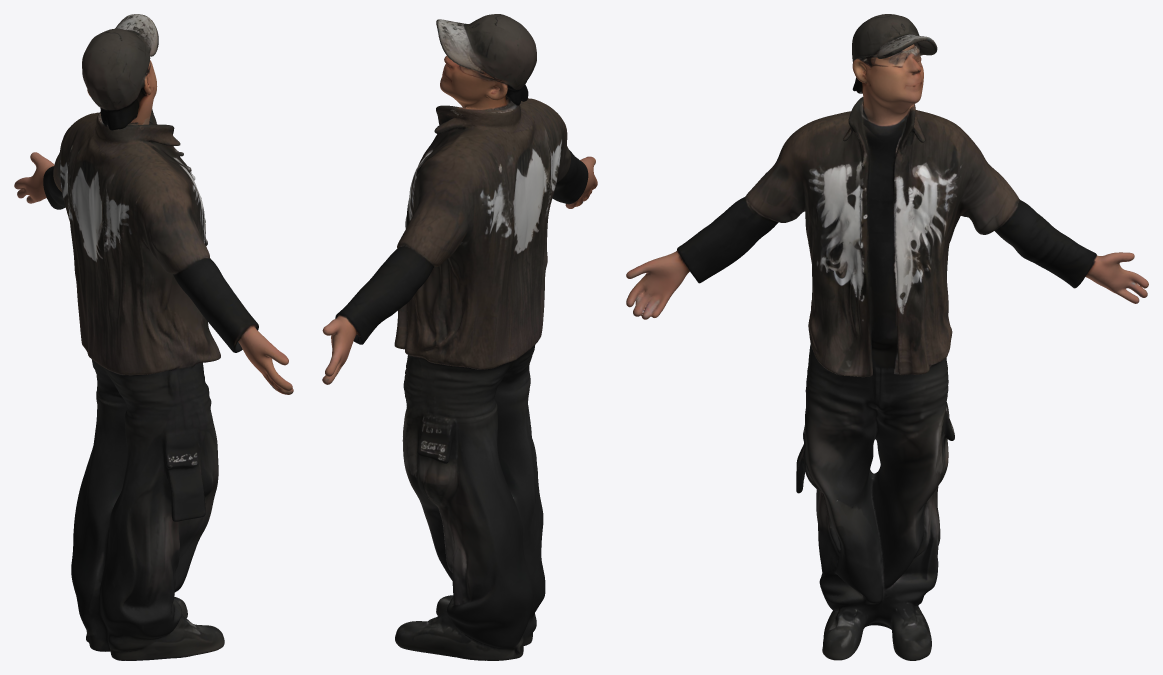
The model's file is ivanavenir_3d.glb.
3 renders of one model, left to right at view 1: azimuth 30°, elevation 25°; view 2: azimuth 150°, elevation 25°; view 3: azimuth 270°, elevation 25°, orthographic. The views are drawn at different scales.
Visible parts, largest first — view 1: tripo_node_e096e83b-8525-418e-99ce-aebf17ff3b51; view 2: tripo_node_e096e83b-8525-418e-99ce-aebf17ff3b51; view 3: tripo_node_e096e83b-8525-418e-99ce-aebf17ff3b51.
Boxes of the visible parts, x1=… form: tripo_node_e096e83b-8525-418e-99ce-aebf17ff3b51: x1=14, y1=14, x2=293, y2=660; tripo_node_e096e83b-8525-418e-99ce-aebf17ff3b51: x1=322, y1=14, x2=597, y2=660; tripo_node_e096e83b-8525-418e-99ce-aebf17ff3b51: x1=626, y1=14, x2=1148, y2=660.
Bounding box in the file's own units: 0.2025 × 1 × 0.782.
Materials: 1 (1 with a texture image).
